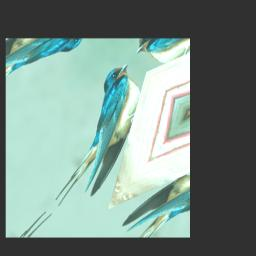Swallow: (23, 57, 171, 221)
